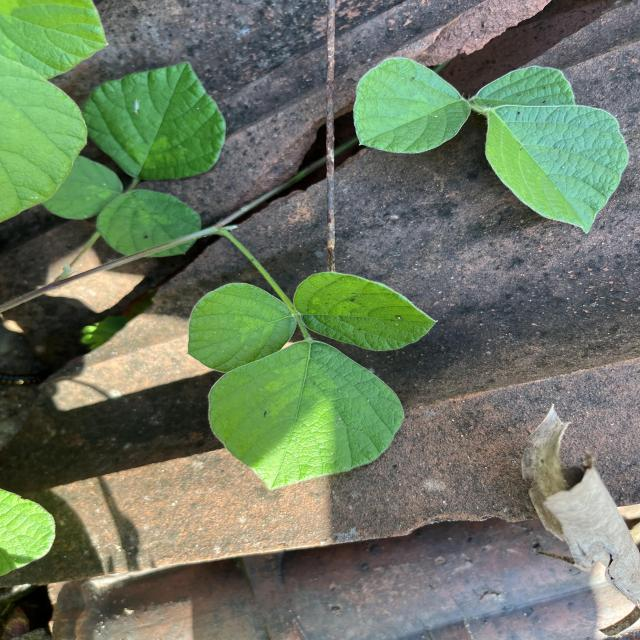Pseudarthria viscida: (184, 270, 442, 493), (348, 58, 634, 239), (43, 59, 228, 260)
